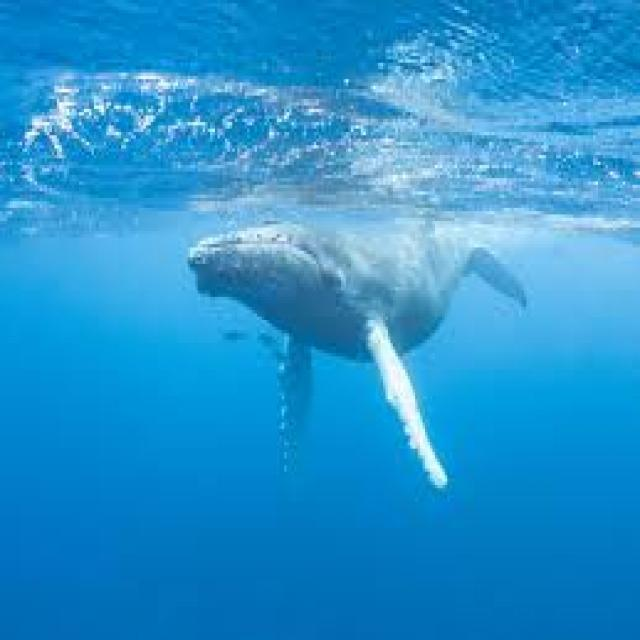blue_whale: (165, 185, 561, 548)
